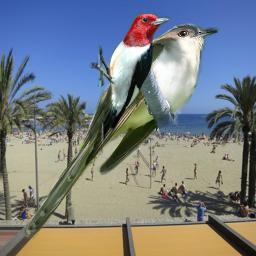Cuckoo: (22, 22, 220, 243)
Woodpecker: (89, 13, 172, 145)
